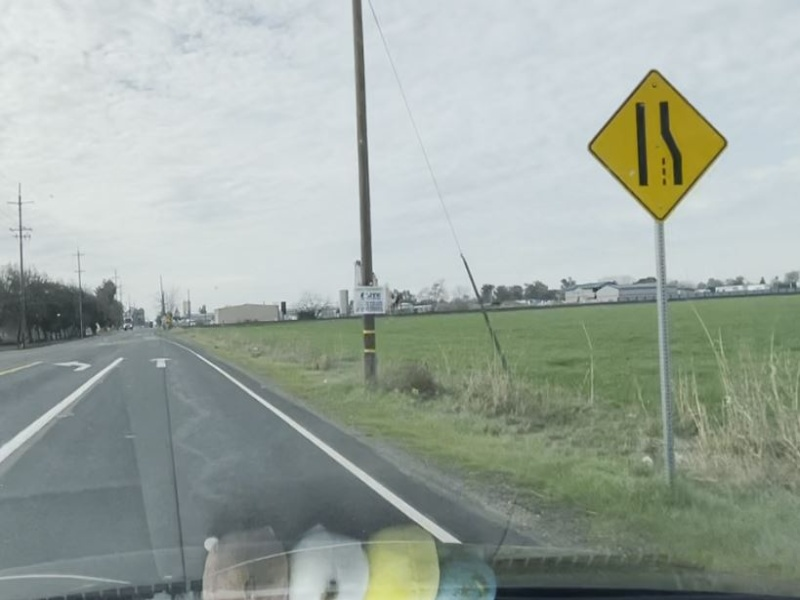merge sign: (586, 69, 728, 223)
